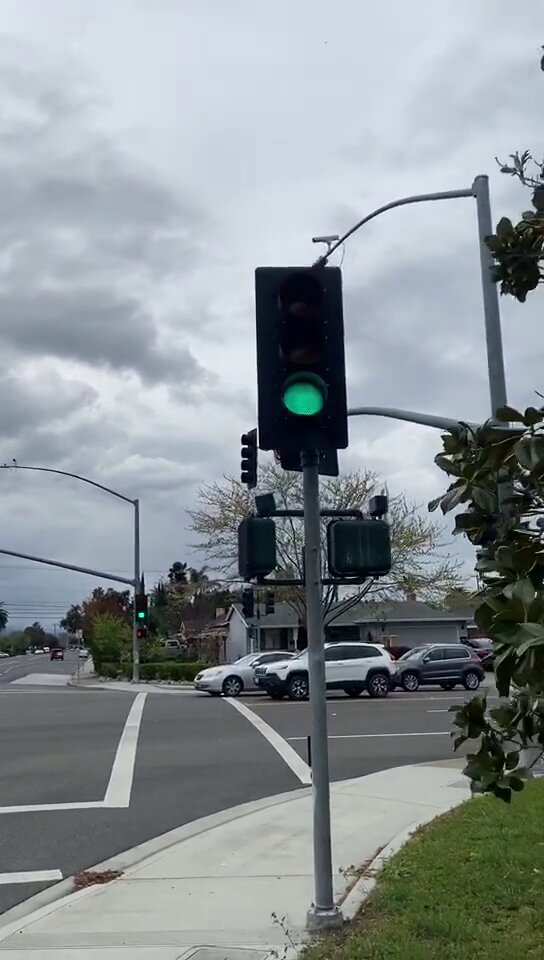green_light: (260, 272, 342, 445), (136, 595, 146, 620)
